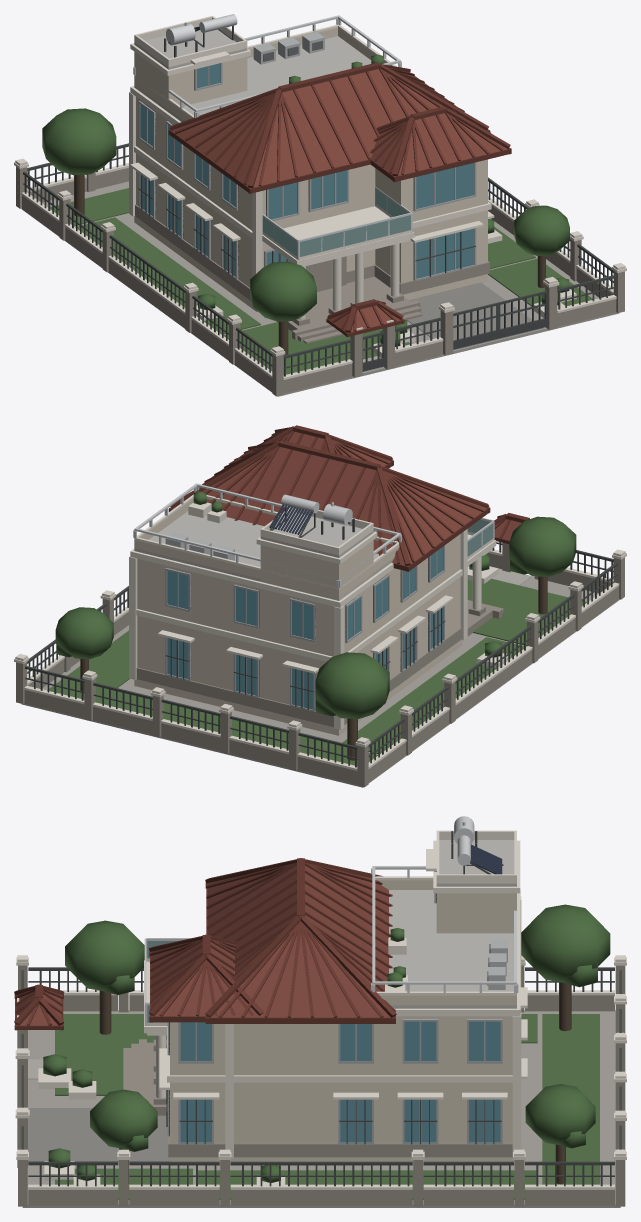
Rendered from biet-thu-mai-thai.glb.
3 views of the same model, one above another, from view 1: azimuth 30°, elevation 25°; view 2: azimuth 150°, elevation 25°; view 3: azimuth 270°, elevation 25° (orthographic). The views are drawn at different scales.
Visible parts, largest first — view 1: biet_thu_mai_thai; view 2: biet_thu_mai_thai; view 3: biet_thu_mai_thai.
Part boxes in pixels (x1,y1,x2,y2): biet_thu_mai_thai: (14, 14, 626, 396); biet_thu_mai_thai: (14, 425, 626, 787); biet_thu_mai_thai: (14, 816, 626, 1207).
Bounding box in the file's own units: 20.56 × 11.86 × 26.66.
